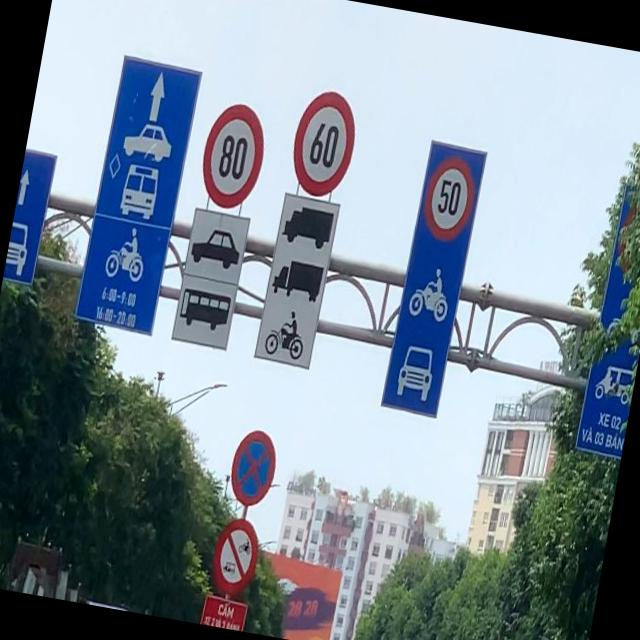P-104: (208, 514, 262, 598)
P-127: (193, 100, 270, 212), (285, 86, 360, 198)
P-130: (224, 425, 279, 509)
